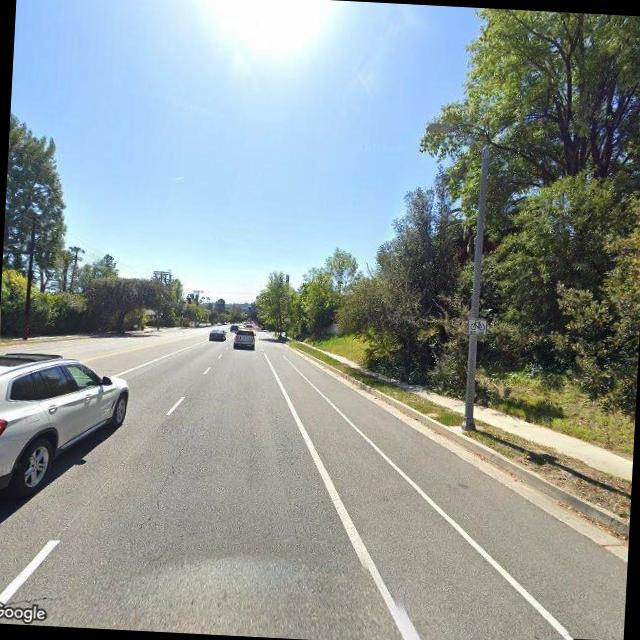pothole: (132, 432, 191, 548)
